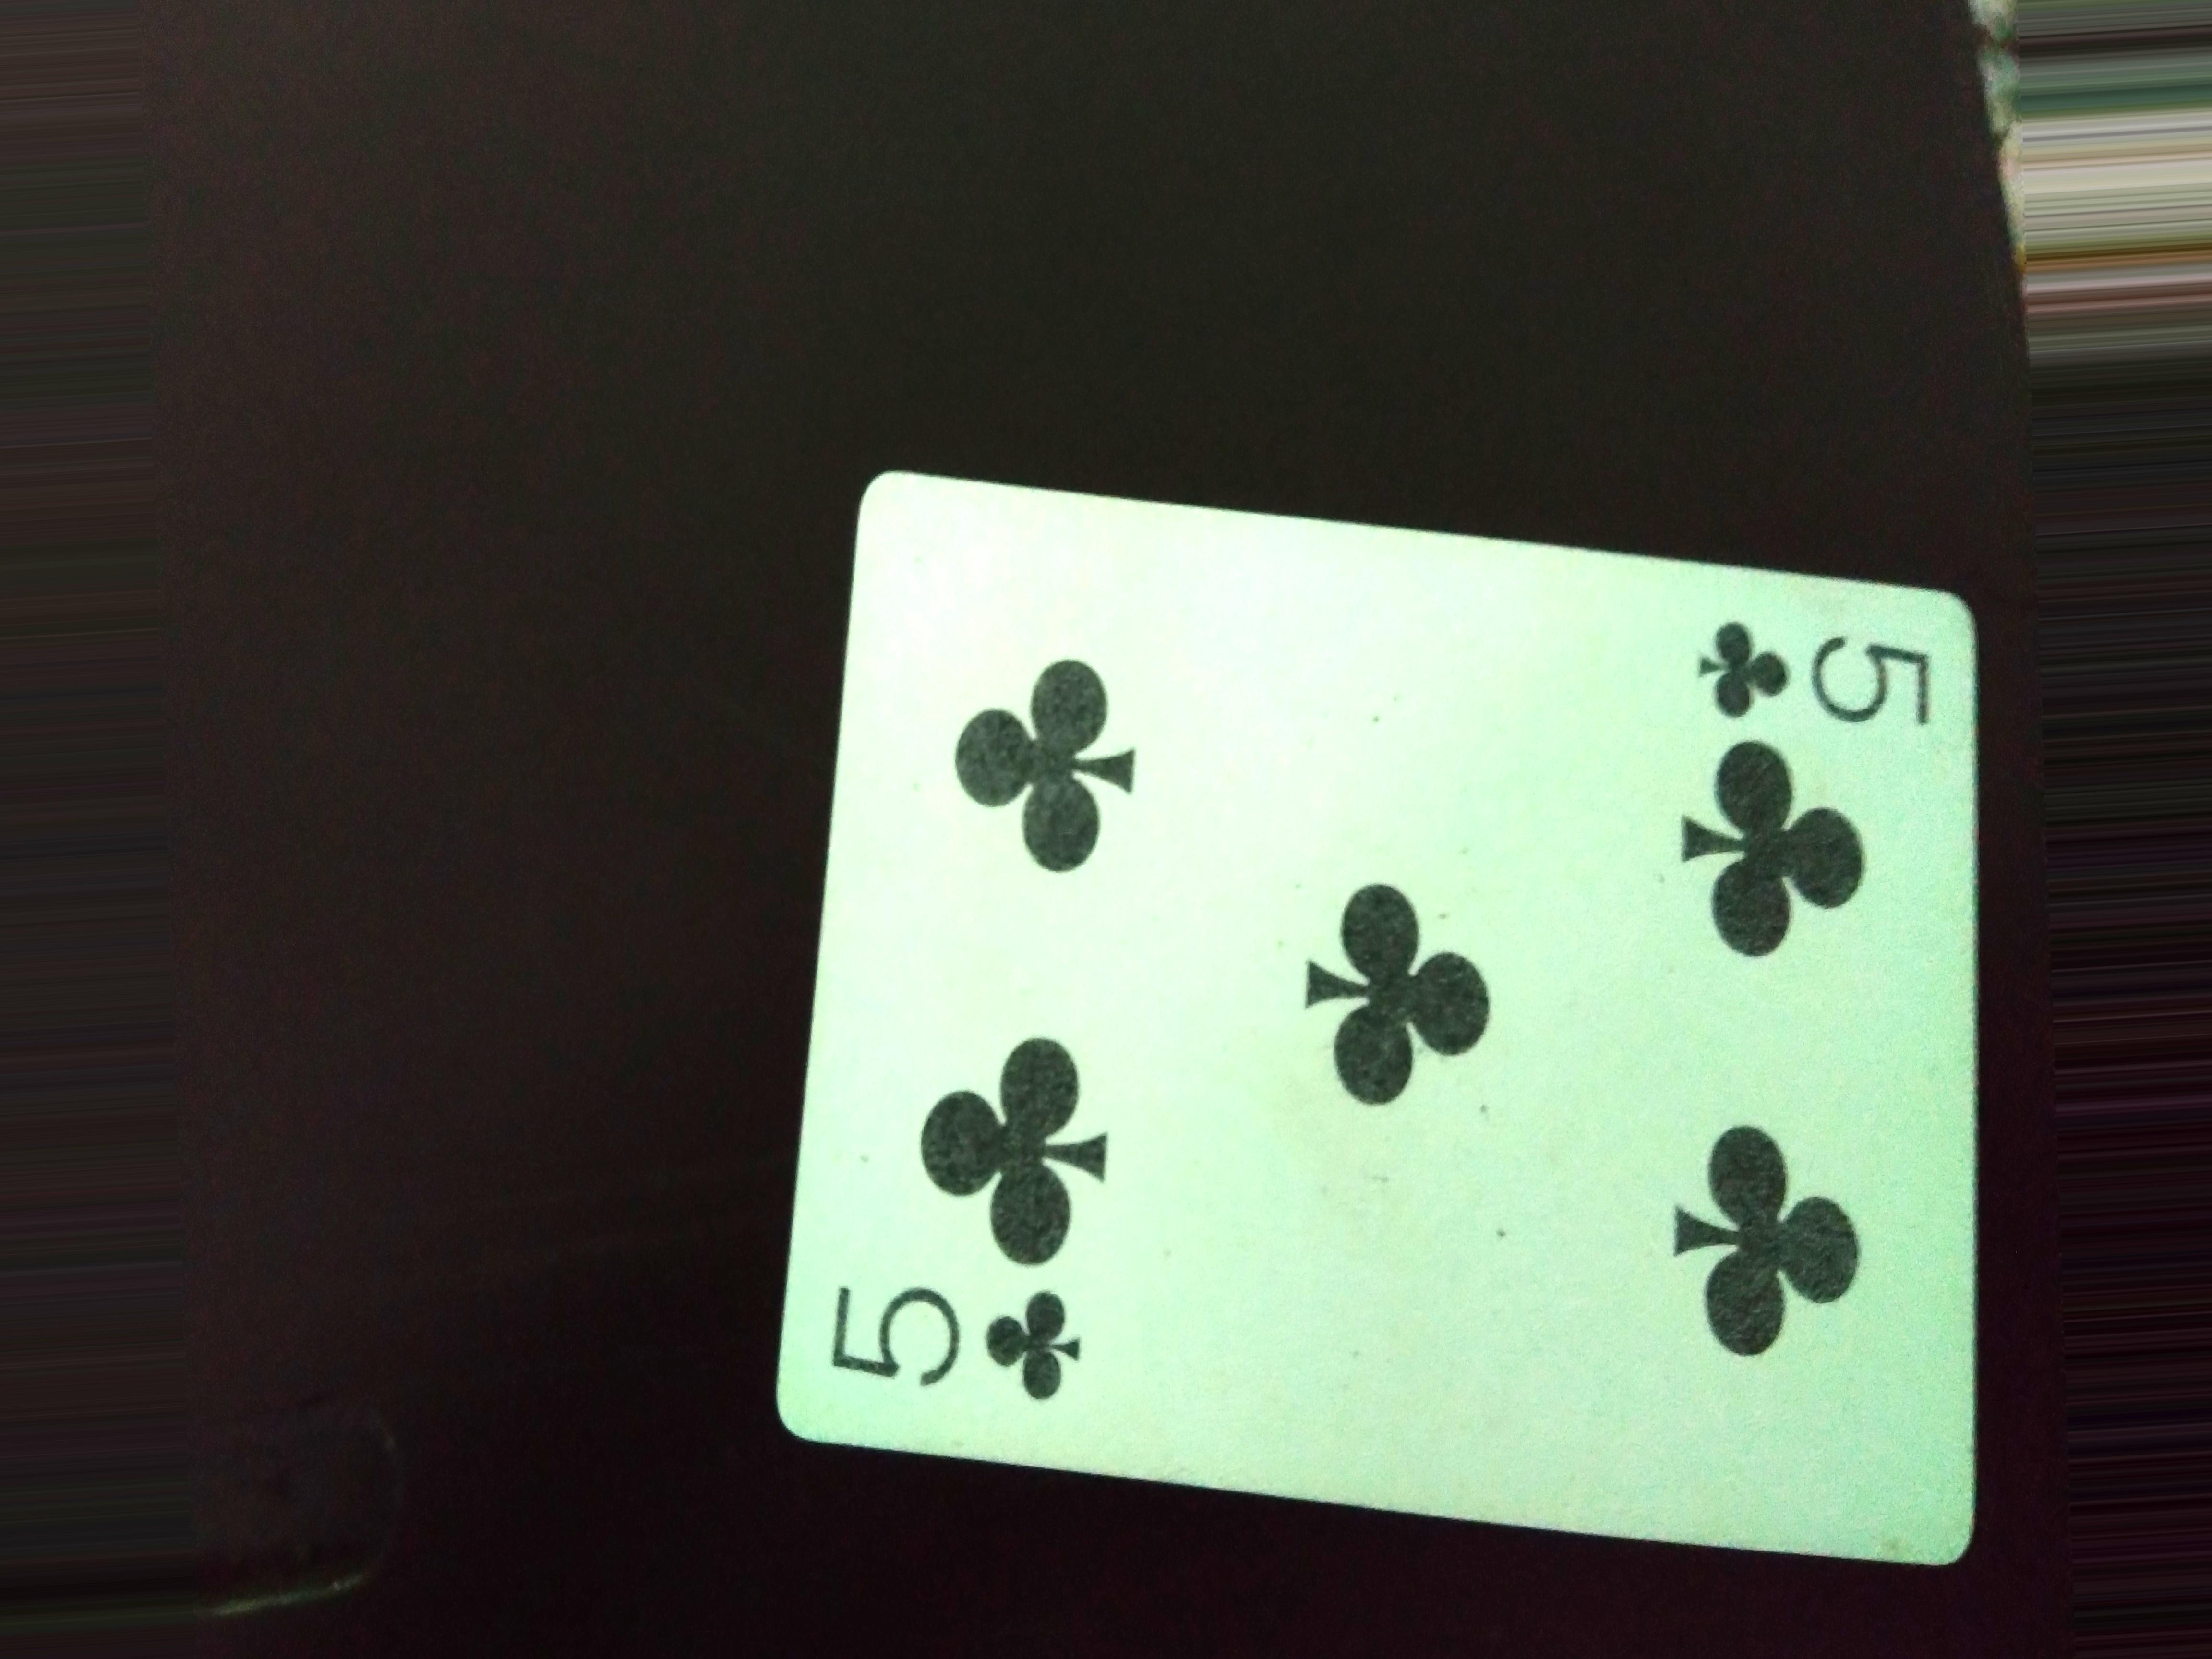5C: (1684, 598, 1942, 751)
